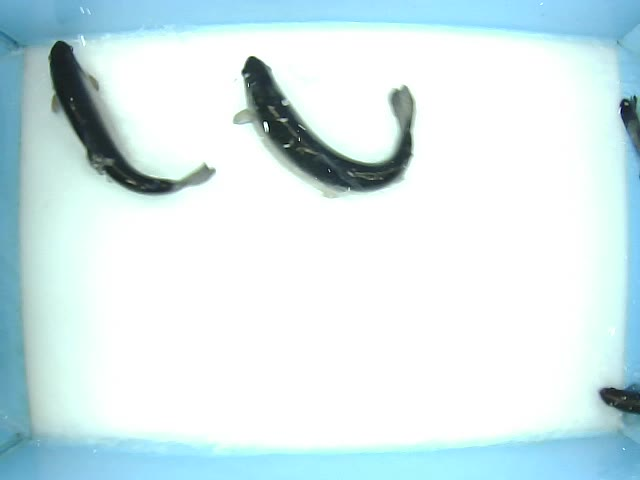fish: (41, 38, 217, 198), (231, 52, 418, 201)
